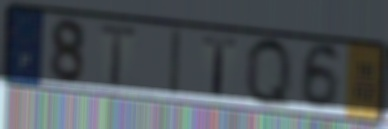6: (296, 40, 345, 115)
8: (47, 17, 88, 87)
I: (167, 26, 183, 98)
Q: (243, 33, 295, 113)
T: (96, 22, 142, 89), (200, 34, 240, 99)
